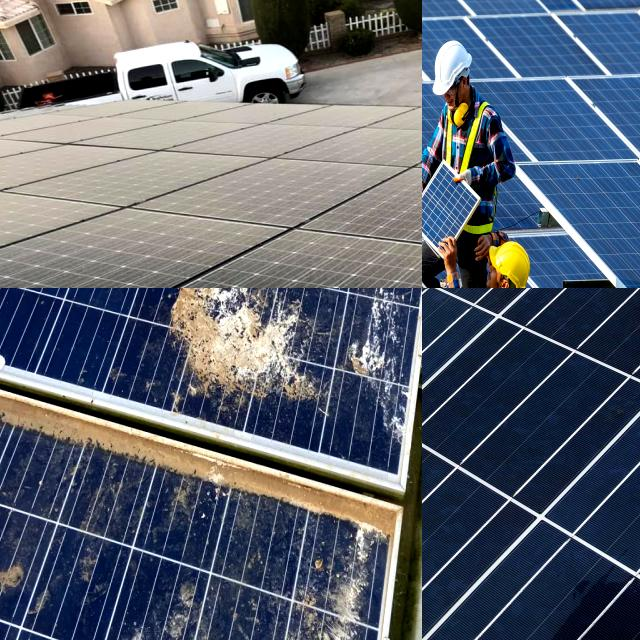bird: (161, 288, 315, 399), (345, 288, 412, 442), (316, 497, 380, 640), (145, 469, 268, 541), (133, 597, 298, 640), (255, 288, 374, 339), (0, 548, 72, 612), (160, 288, 248, 328), (56, 288, 142, 323)
crack: (422, 288, 640, 640), (422, 71, 518, 261), (510, 150, 640, 288), (422, 157, 553, 288), (422, 79, 521, 226), (422, 176, 551, 288), (422, 70, 508, 192), (422, 8, 501, 109), (422, 180, 484, 288), (422, 22, 498, 102)
